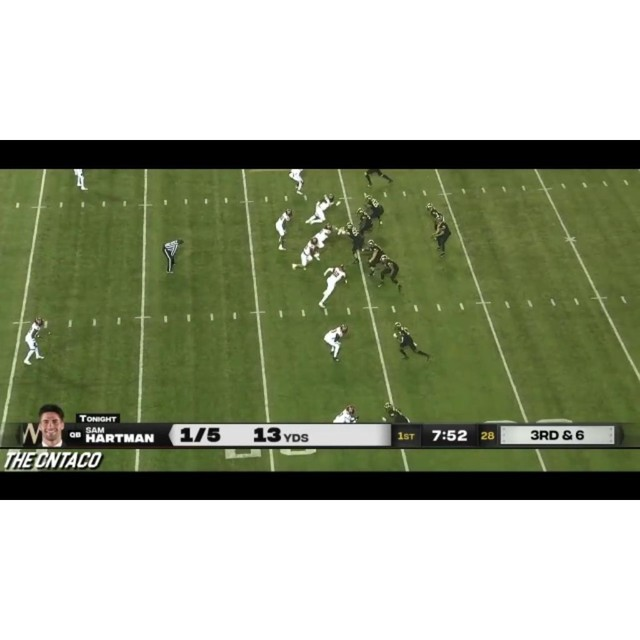american-football-player: (393, 321, 432, 362), (319, 264, 348, 308), (23, 318, 47, 365), (339, 222, 365, 264), (377, 253, 403, 293), (323, 323, 349, 362), (304, 194, 336, 225), (291, 238, 320, 271), (431, 215, 451, 258), (310, 224, 335, 255), (364, 193, 385, 229), (275, 208, 292, 251), (366, 238, 385, 276), (383, 401, 410, 423), (333, 404, 359, 424), (364, 169, 392, 187), (288, 169, 306, 197), (356, 207, 374, 233), (73, 170, 88, 191)
referee: (162, 238, 184, 274)
